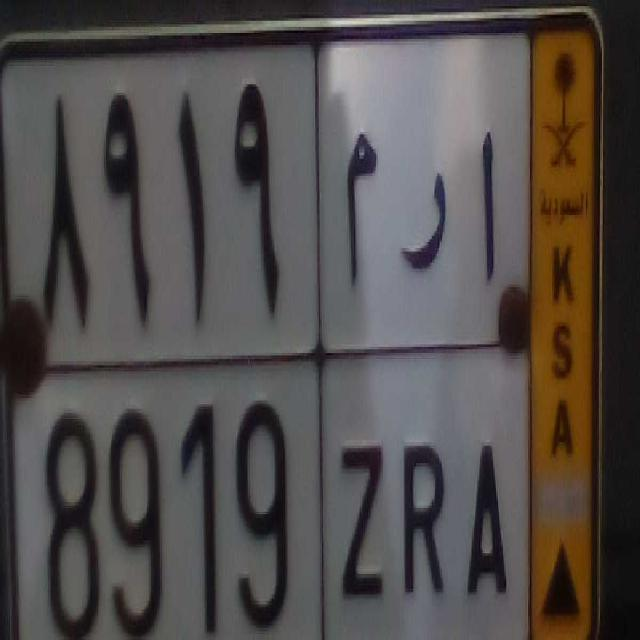license_plate: (24, 350, 525, 640)
